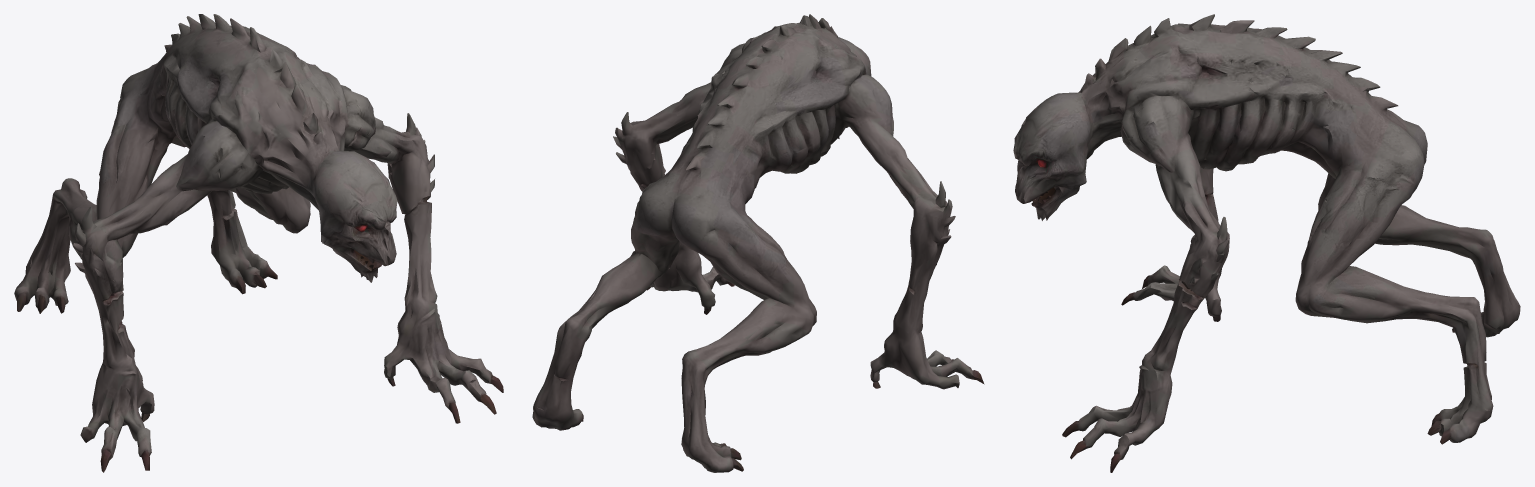
Rendered from mutant_crawler_polzun_idle.glb.
3 renders of one model, left to right at view 1: azimuth 30°, elevation 25°; view 2: azimuth 150°, elevation 25°; view 3: azimuth 270°, elevation 25°, orthographic. The views are drawn at different scales.
Parts seen in each view (by area): view 1: tripo_node_d8504137-79d6-4773-8f73-9d389ea9f7c5; view 2: tripo_node_d8504137-79d6-4773-8f73-9d389ea9f7c5; view 3: tripo_node_d8504137-79d6-4773-8f73-9d389ea9f7c5.
Part boxes in pixels (x1=…): tripo_node_d8504137-79d6-4773-8f73-9d389ea9f7c5: x1=14, y1=14, x2=503, y2=472; tripo_node_d8504137-79d6-4773-8f73-9d389ea9f7c5: x1=532, y1=14, x2=984, y2=472; tripo_node_d8504137-79d6-4773-8f73-9d389ea9f7c5: x1=1013, y1=14, x2=1520, y2=472.
Bounding box in the file's own units: 1.4 × 1.3 × 1.64.
Materials: 1 (1 with a texture image).
